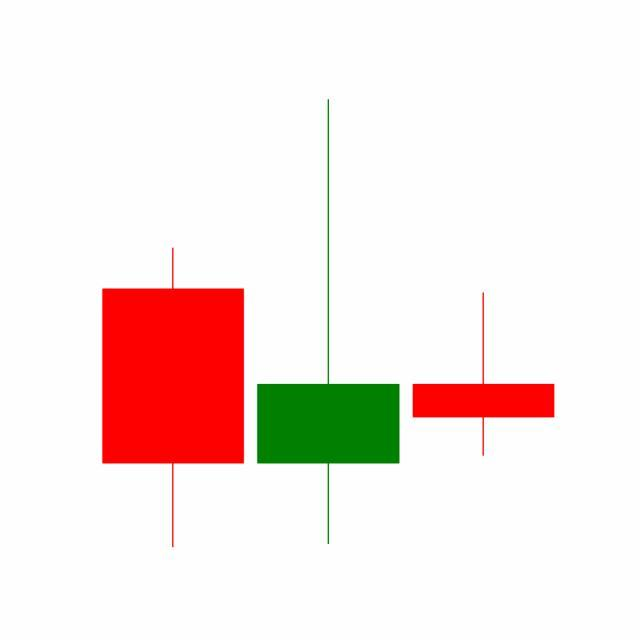Spinning Top: (406, 291, 562, 458)
